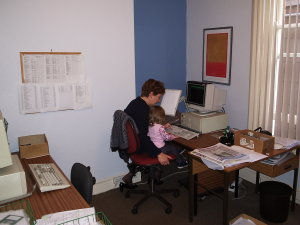person: (126, 80, 187, 157)
